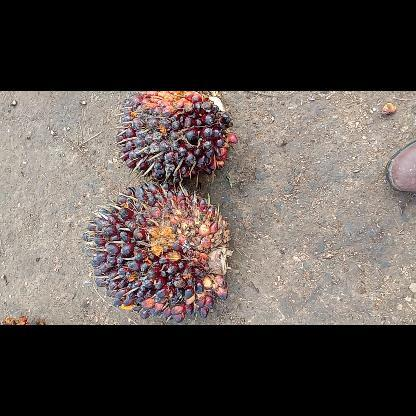Kurang masak: (80, 181, 233, 324), (113, 90, 240, 184)
